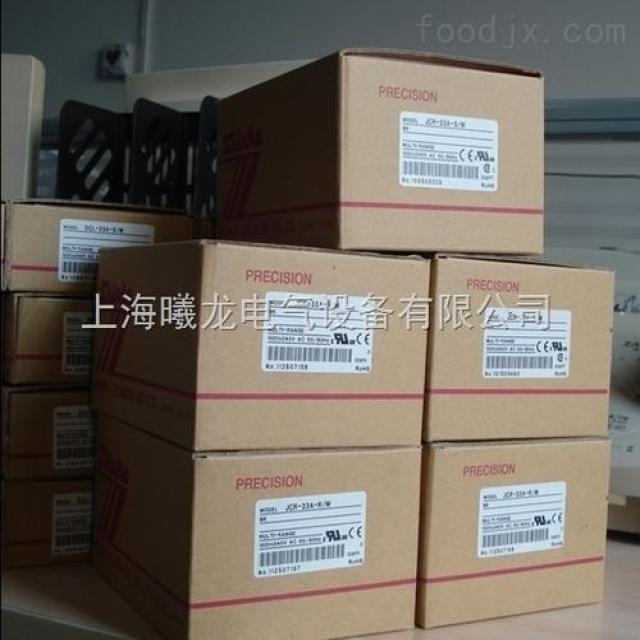box: (93, 413, 421, 640), (97, 238, 433, 454), (216, 42, 545, 255), (419, 437, 613, 628), (421, 255, 618, 443), (1, 197, 200, 297), (1, 560, 169, 640), (122, 57, 325, 112), (3, 293, 97, 388), (3, 477, 96, 568), (10, 392, 95, 483), (0, 53, 47, 206)
